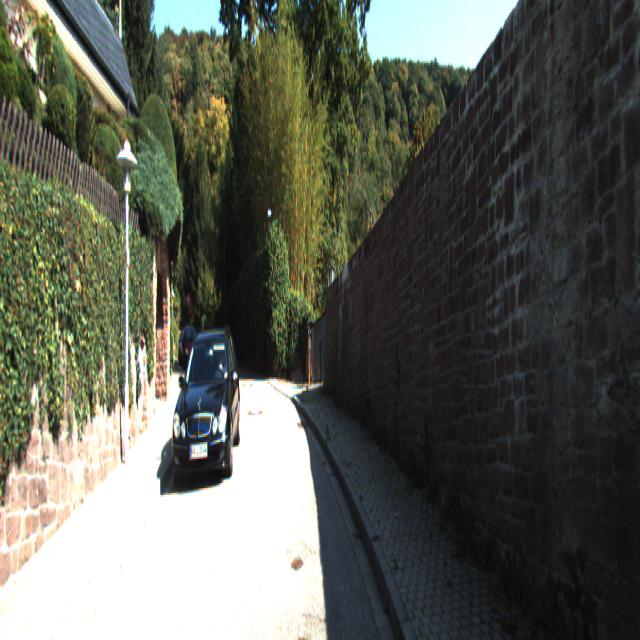Car: (170, 326, 241, 497), (180, 323, 198, 372)
